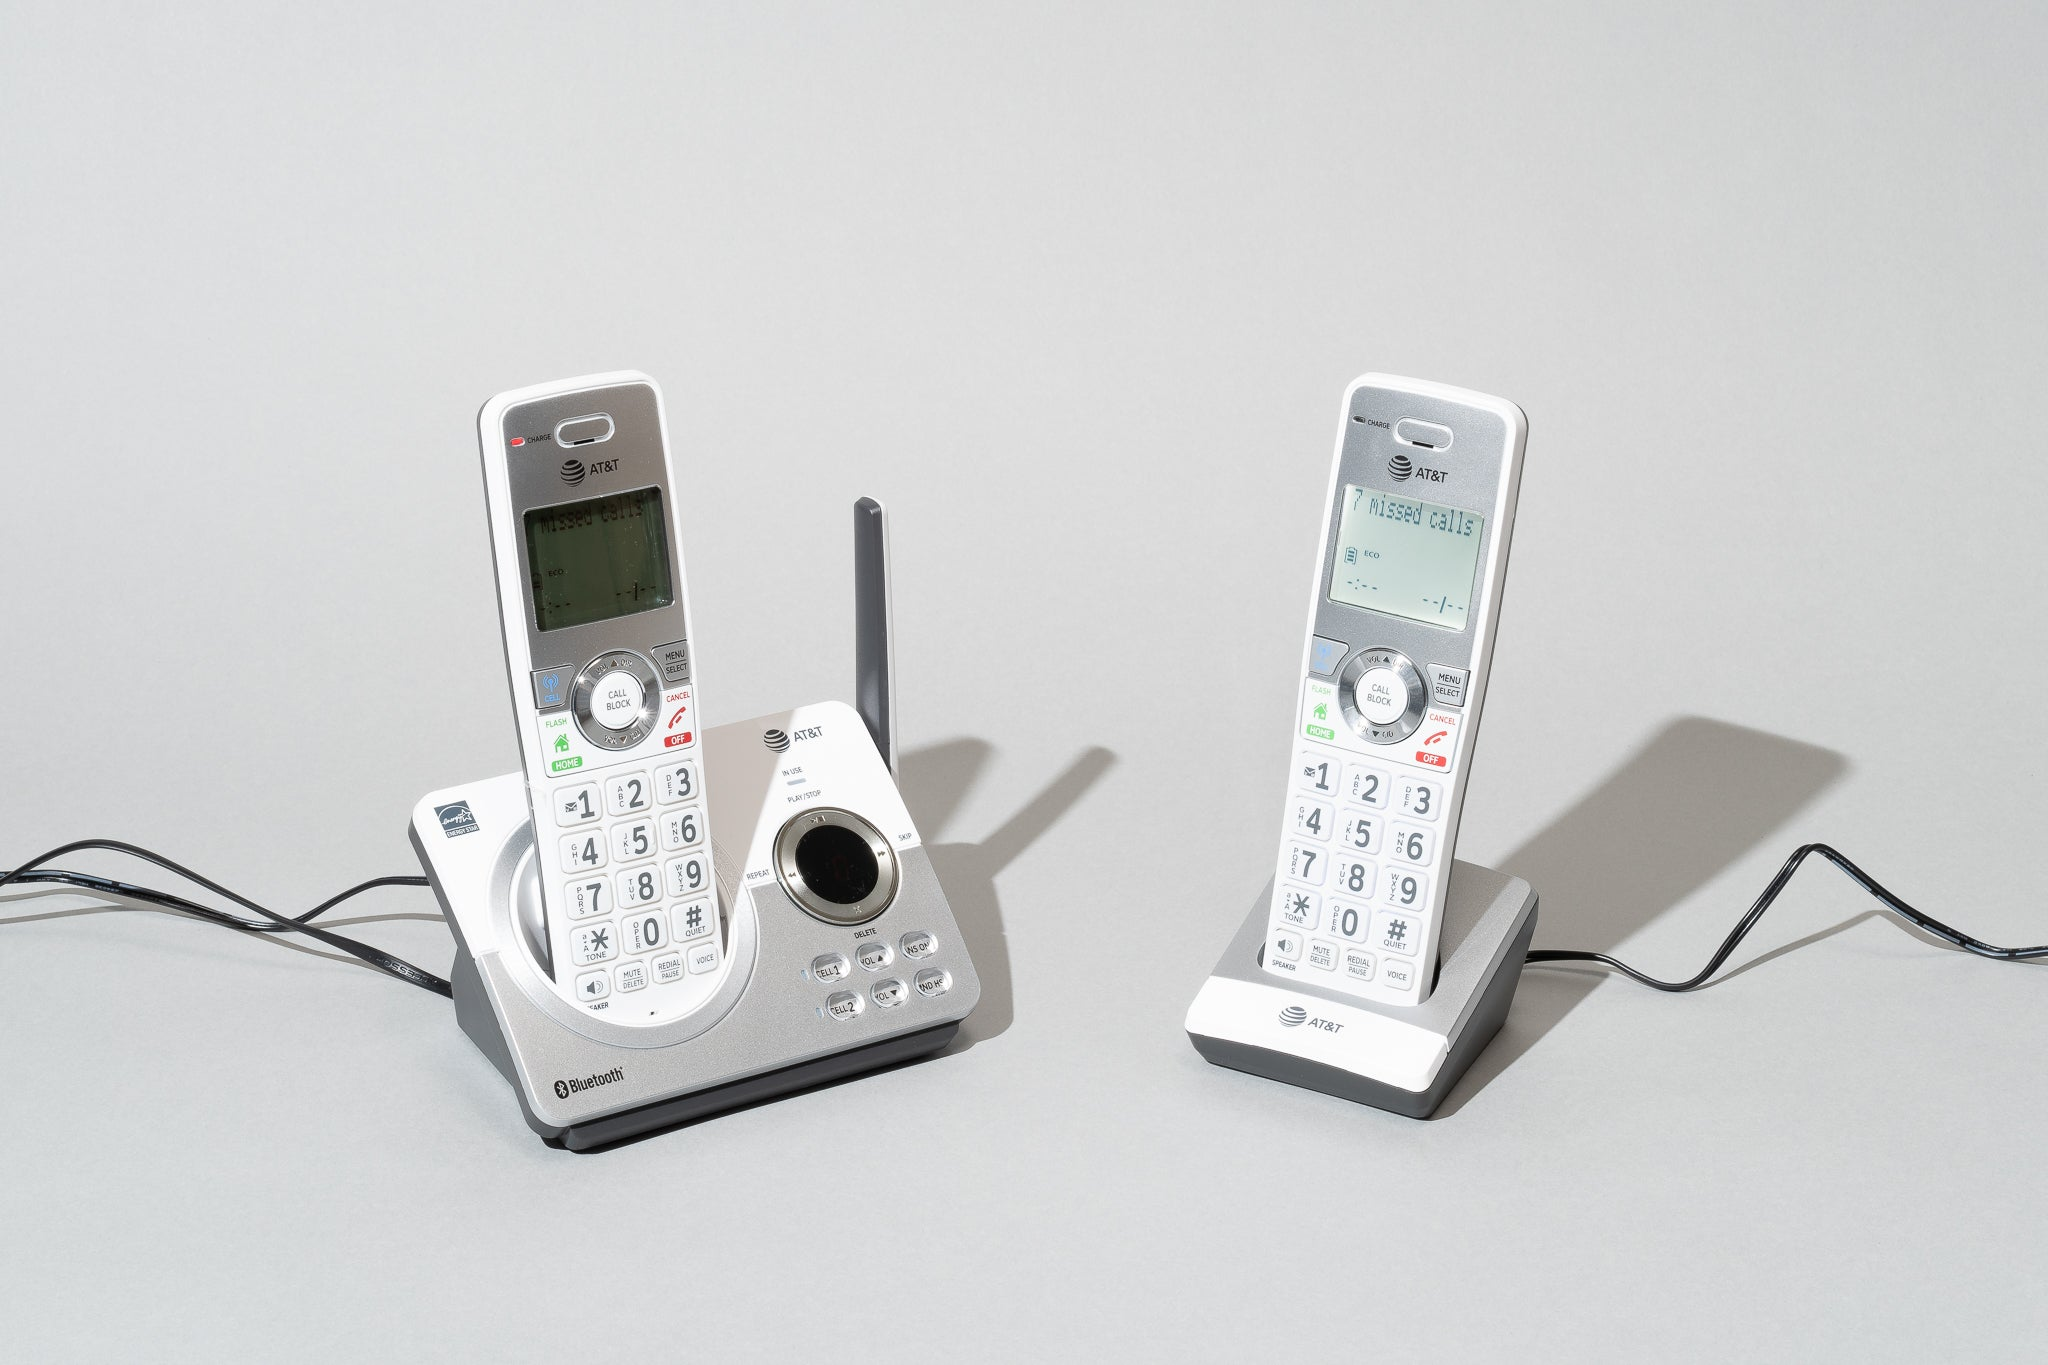telephone: (1255, 369, 1533, 1007), (477, 366, 729, 1009)
